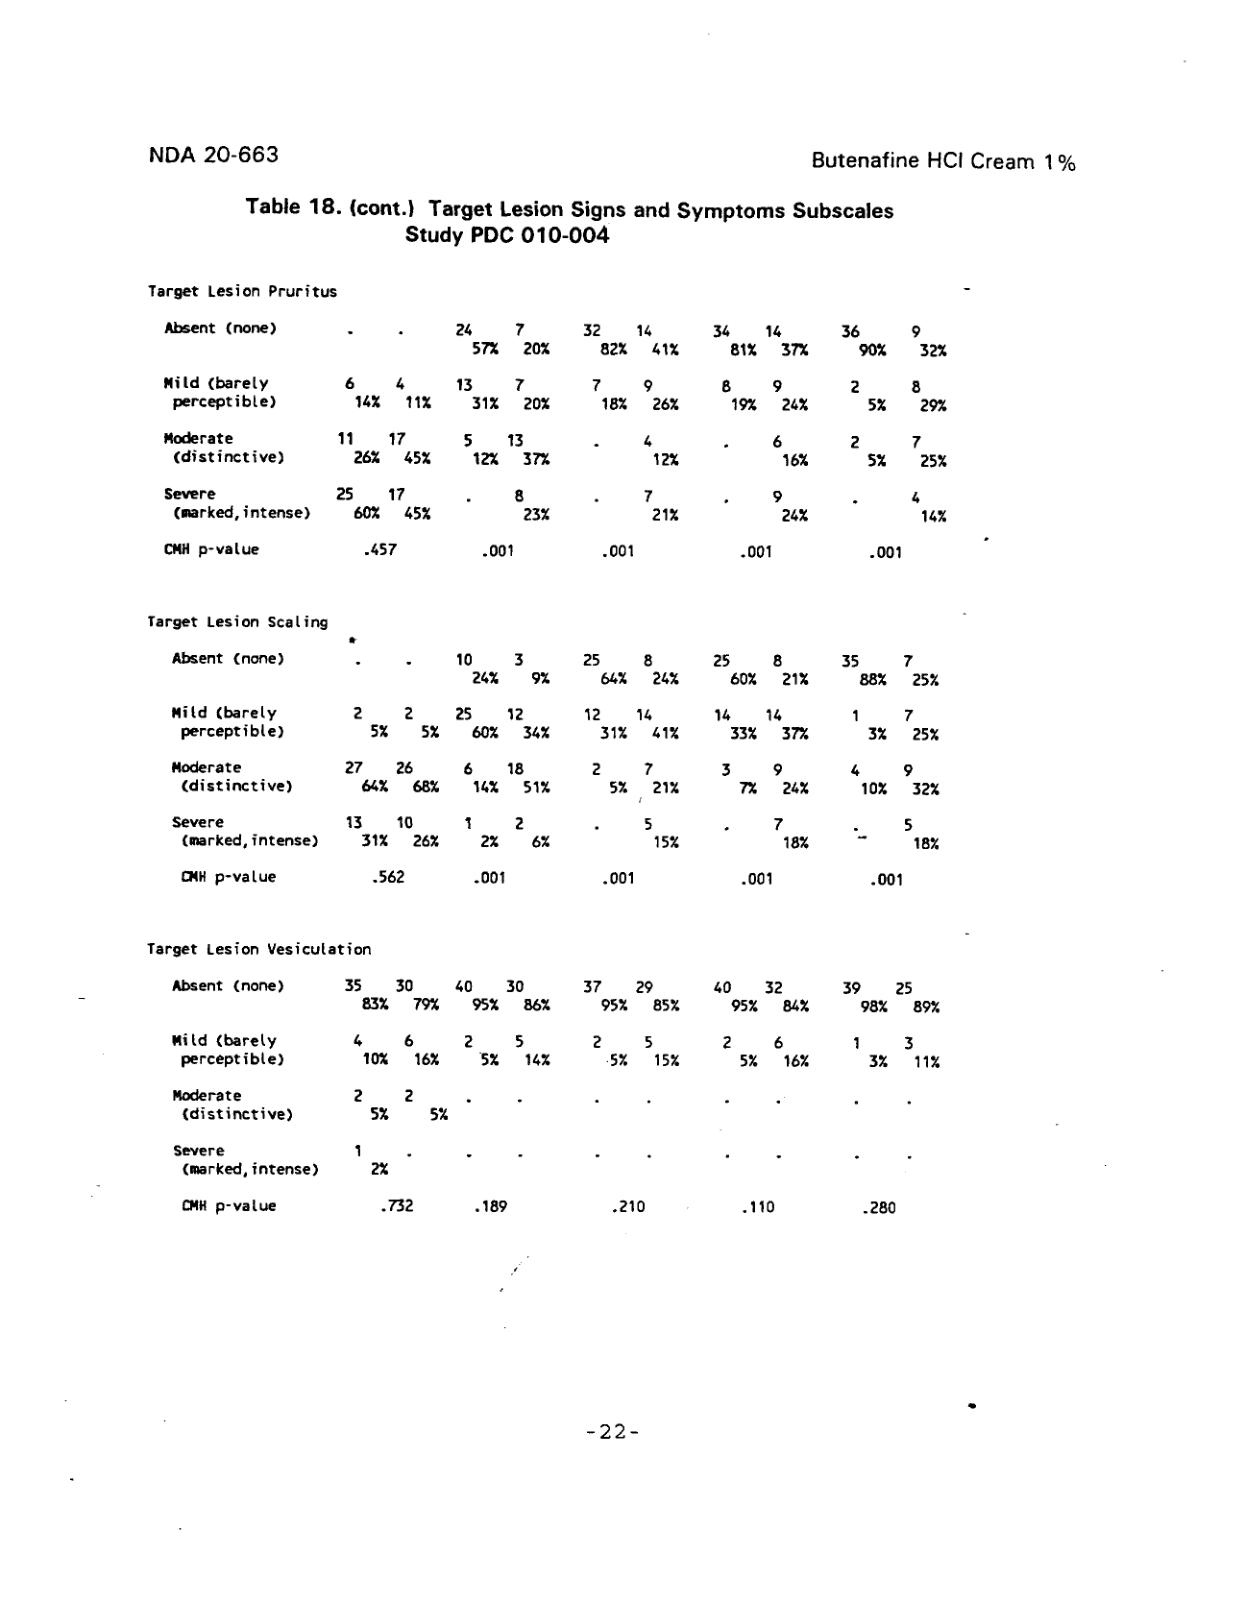nolines: (144, 283, 950, 1217)
